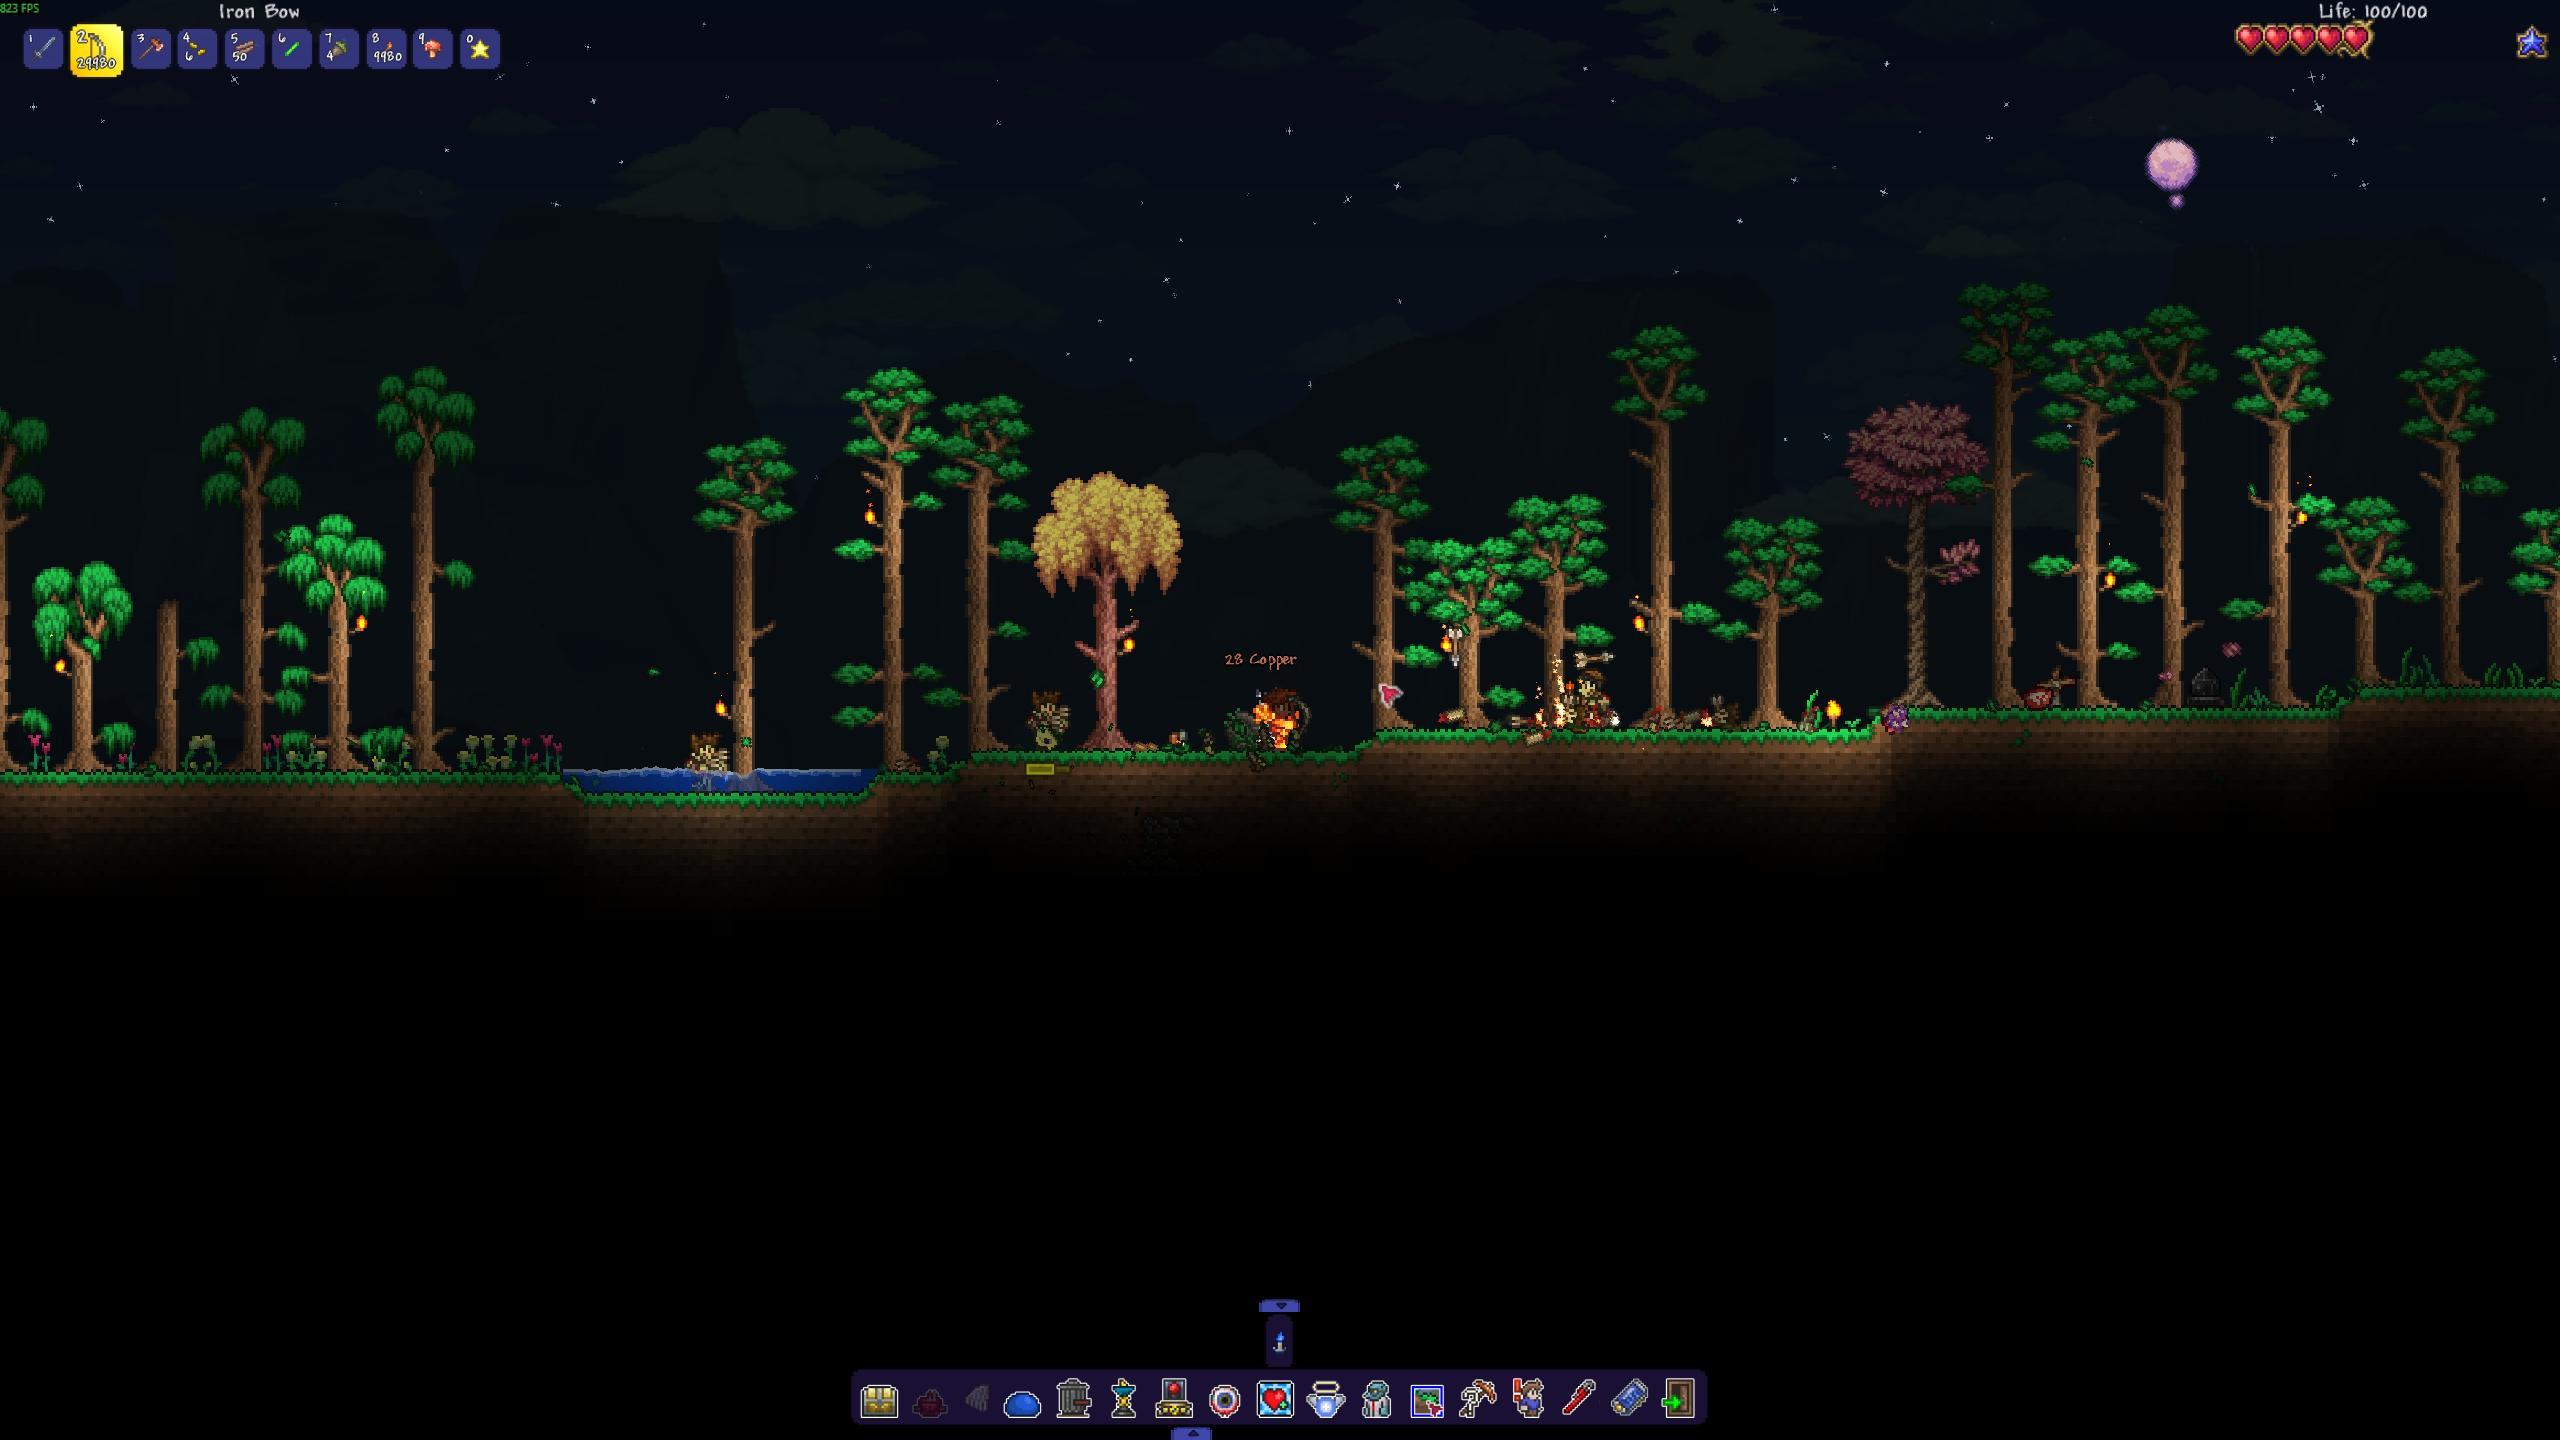Zombie: (679, 726, 731, 789), (1025, 689, 1074, 747), (1570, 663, 1612, 728)
